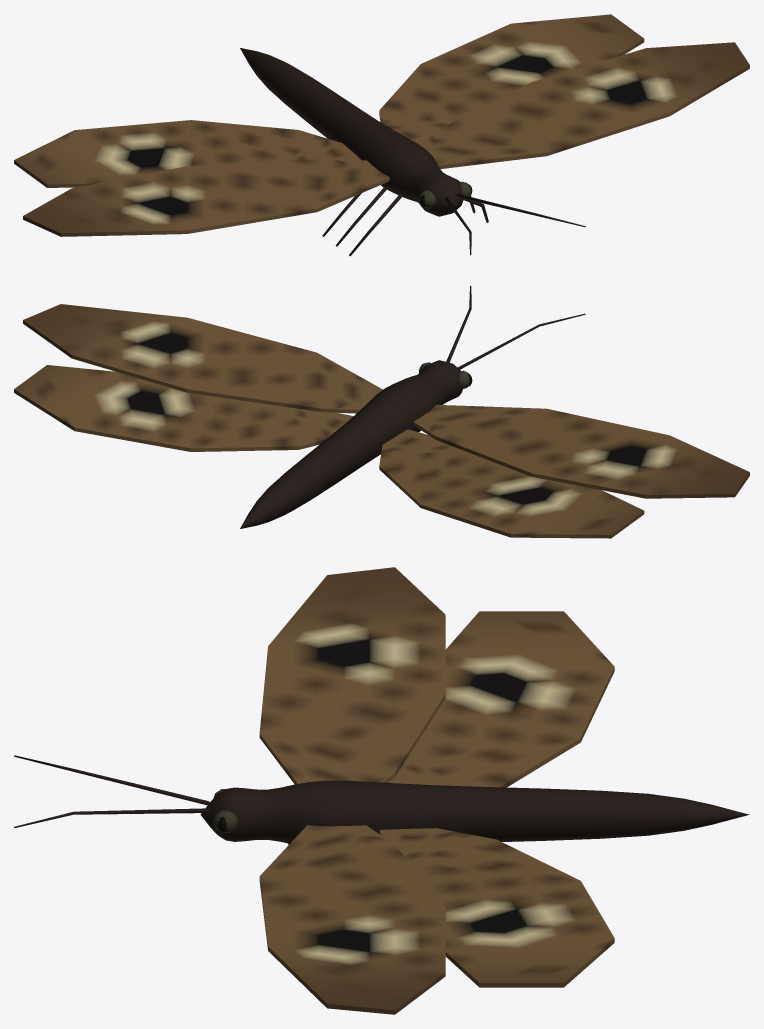
The model's file is Kalligramma.fbx.
The picture shows the model from 3 angles, top to bottom: view 1: azimuth 30°, elevation 25°; view 2: azimuth 150°, elevation 25°; view 3: azimuth 270°, elevation 25°; orthographic projection. The views are drawn at different scales.
Parts seen in each view (by area): view 1: Kalligramma; view 2: Kalligramma; view 3: Kalligramma.
Boxes of the visible parts, <box> form: Kalligramma: <box>14,14,749,256</box>; Kalligramma: <box>14,285,749,538</box>; Kalligramma: <box>14,567,749,1014</box>.
Bounding box in the file's own units: 1.24 × 0.1389 × 0.8705.
